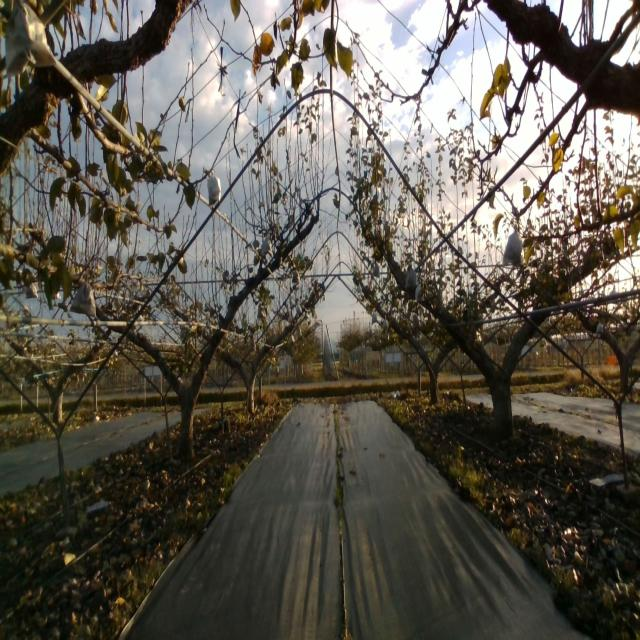pearbags: (5, 0, 56, 77), (502, 224, 526, 266), (206, 170, 222, 207), (260, 234, 274, 258), (404, 265, 416, 289)
